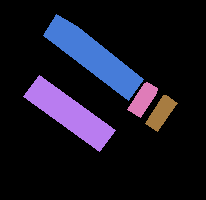parkingspot: (43, 14, 143, 100), (23, 75, 115, 151), (145, 95, 177, 131), (127, 82, 157, 117)
